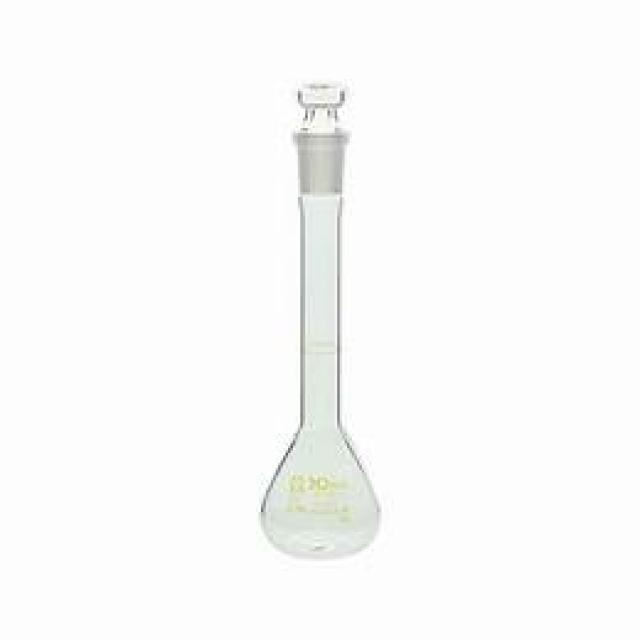Volumetric flask: (233, 63, 390, 566)
